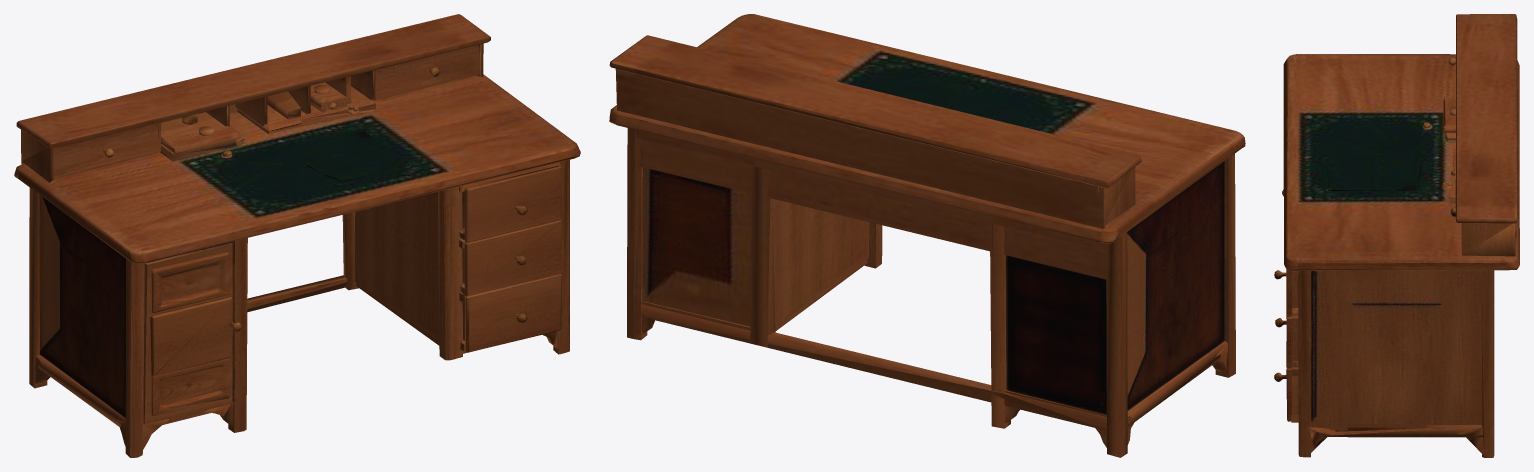
File: desk.glb
The picture shows the model from 3 angles, left to right: view 1: azimuth 30°, elevation 25°; view 2: azimuth 150°, elevation 25°; view 3: azimuth 270°, elevation 25°; orthographic projection. The views are drawn at different scales.
Size of the model in its own units: 1.4 by 0.76 by 0.7.
Materials: 1 (1 with a texture image).
